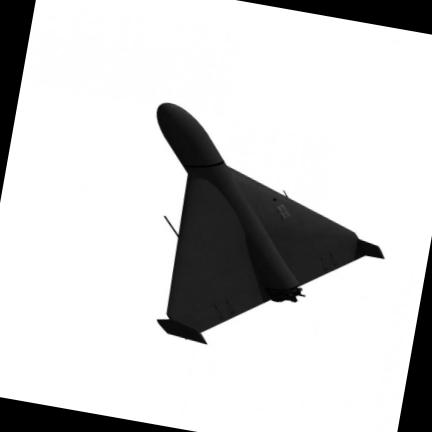Shahed: (156, 103, 381, 343)
